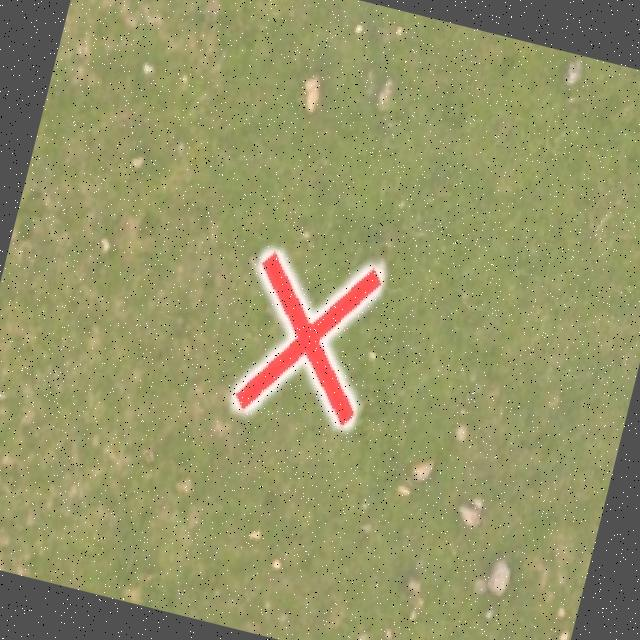x_marker: (226, 242, 386, 432)
